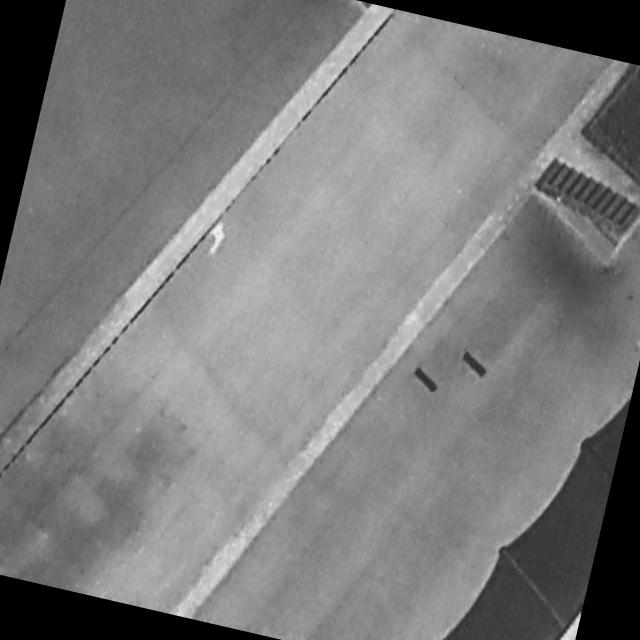person: (205, 220, 230, 260)
